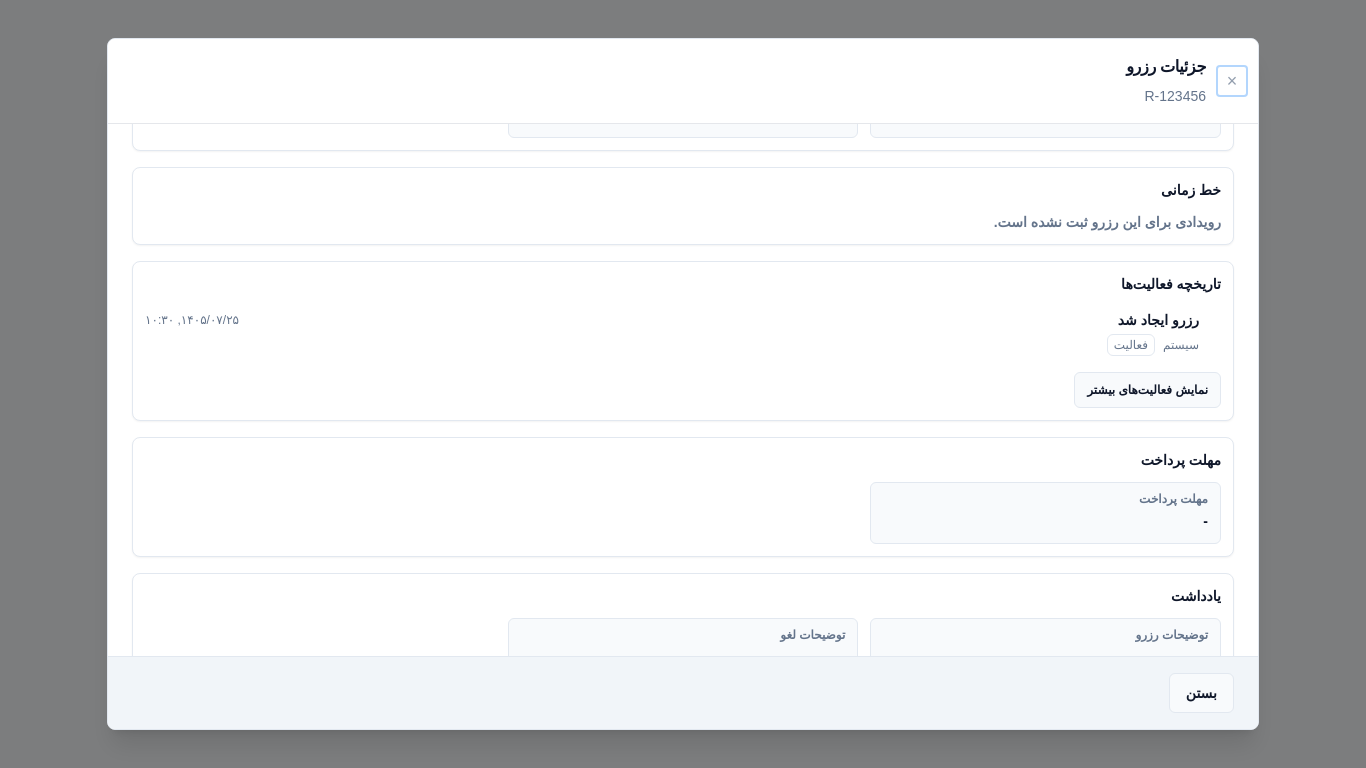
Owner reservation activity timeline › loads the next page once and keeps the chronological list without duplicates
(page scrolled)
Expected: the text "رزرو ایجاد شد" is shown, left=1118, top=310, right=1199, bottom=330
Step 1. Click the button "نمایش فعالیت‌های بیشتر" → [1148, 390], box left=1074, top=372, right=1221, bottom=408
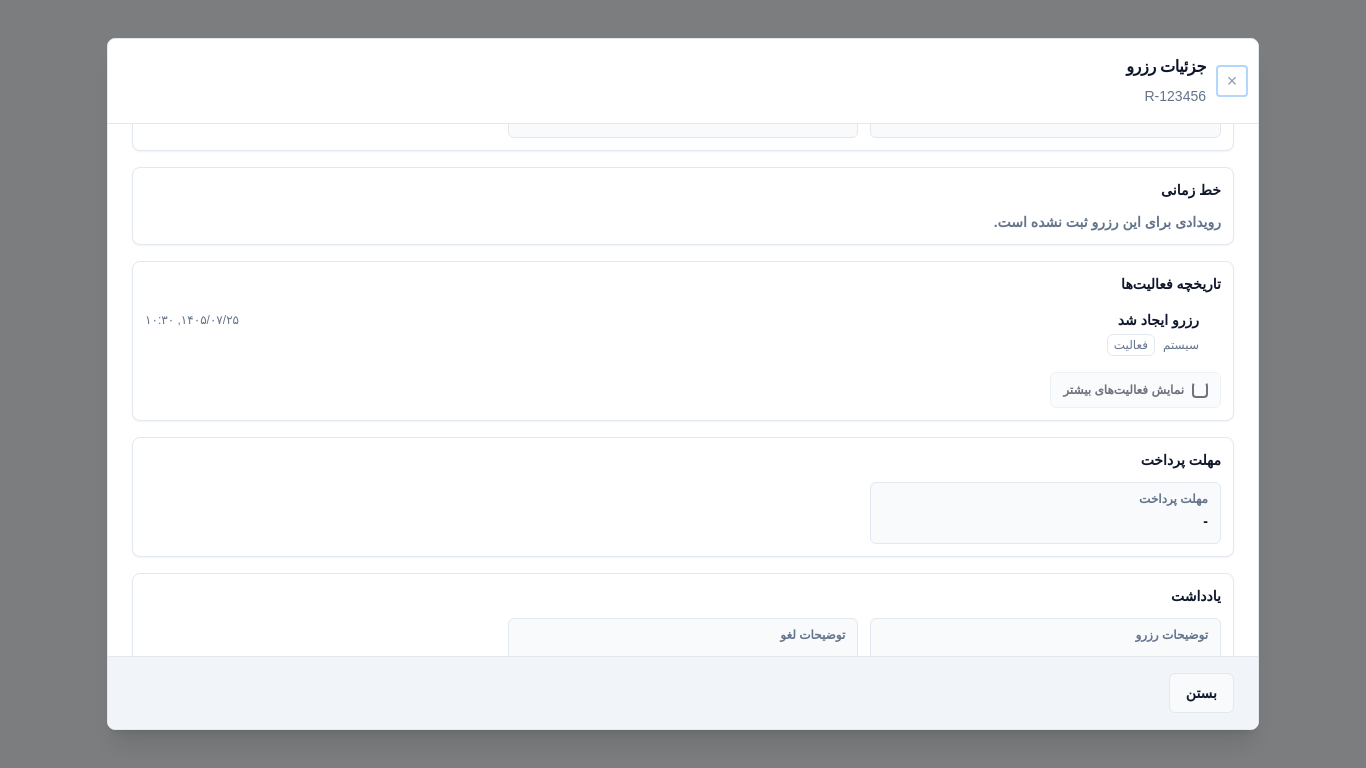
Step 2. Click the button "نمایش فعالیت‌های بیشتر" → [1136, 390], box left=1050, top=372, right=1221, bottom=408
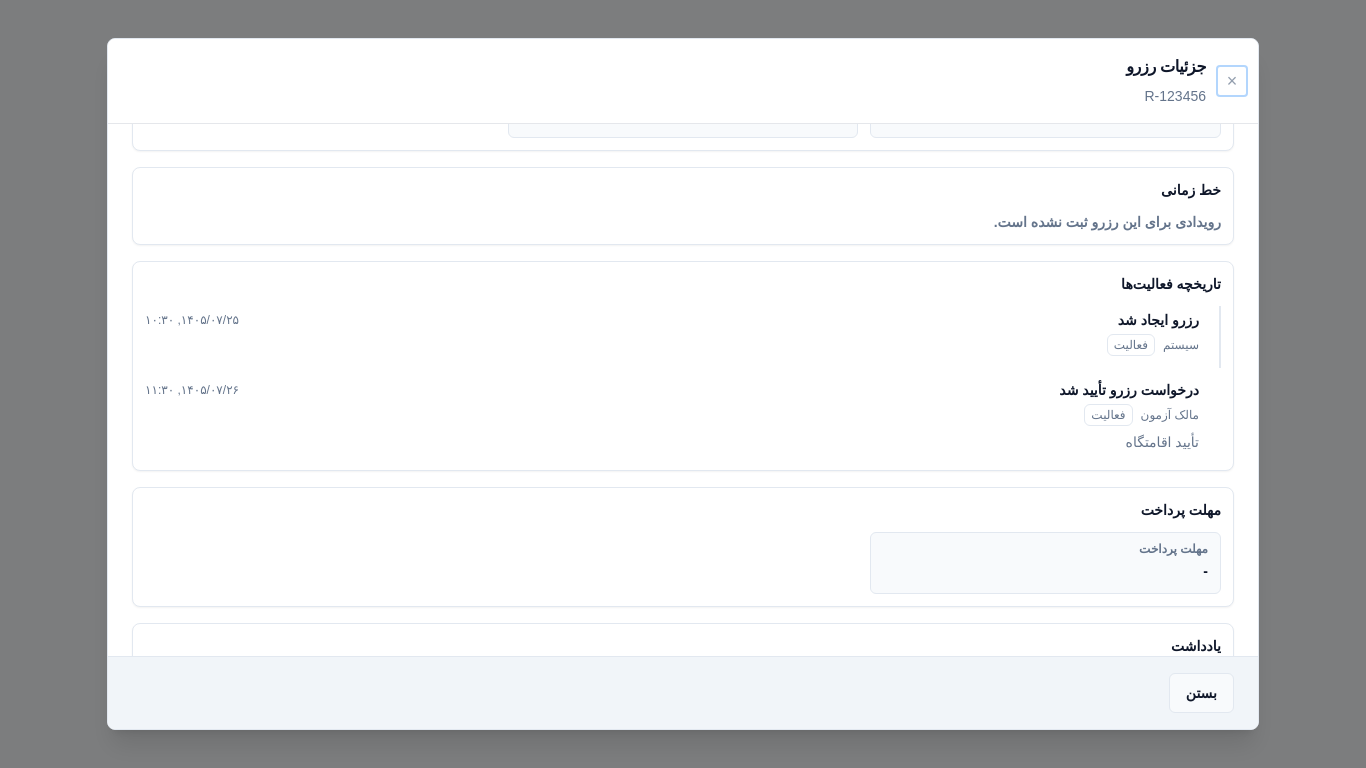
Expected: the text "درخواست رزرو تأیید شد" is shown, left=1059, top=380, right=1199, bottom=400
Expected: the number of list items is 2, left=145, top=306, right=1221, bottom=368; left=145, top=368, right=1221, bottom=458
Expected: the button "نمایش فعالیت‌های بیشتر" is gone
